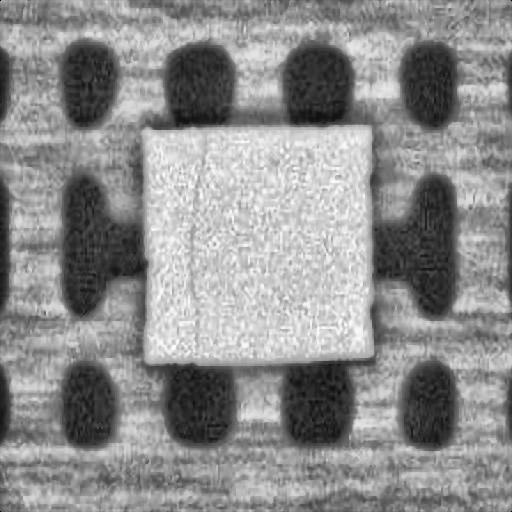DIE_CRACK: (186, 122, 206, 353)
